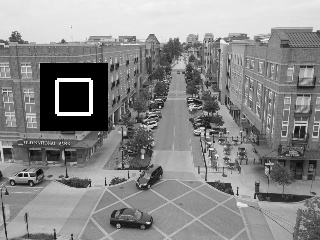square: (40, 63, 108, 131)
